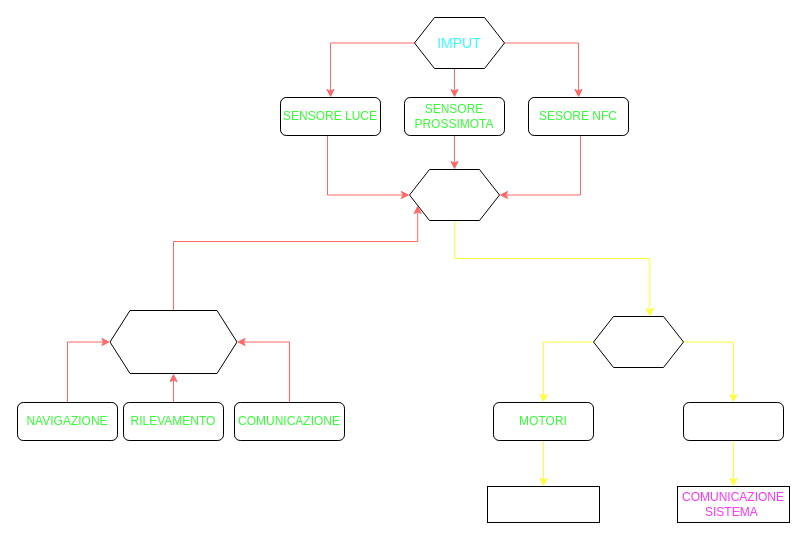
Some shapes in this 807 by 540 pixel diagram are drawn without their labels. The shapes that lost their labels are listed below. From the top down, each one's centre as x and y in pixels, then its label:
At (454,194): "ARDUINO".
At (173,342): "ELABORAZIONE".
At (638,342): "OUTBPUT".
At (733,421): "BLUETOOTH".
At (543,504): "MOVIMENTO ROBOT".
